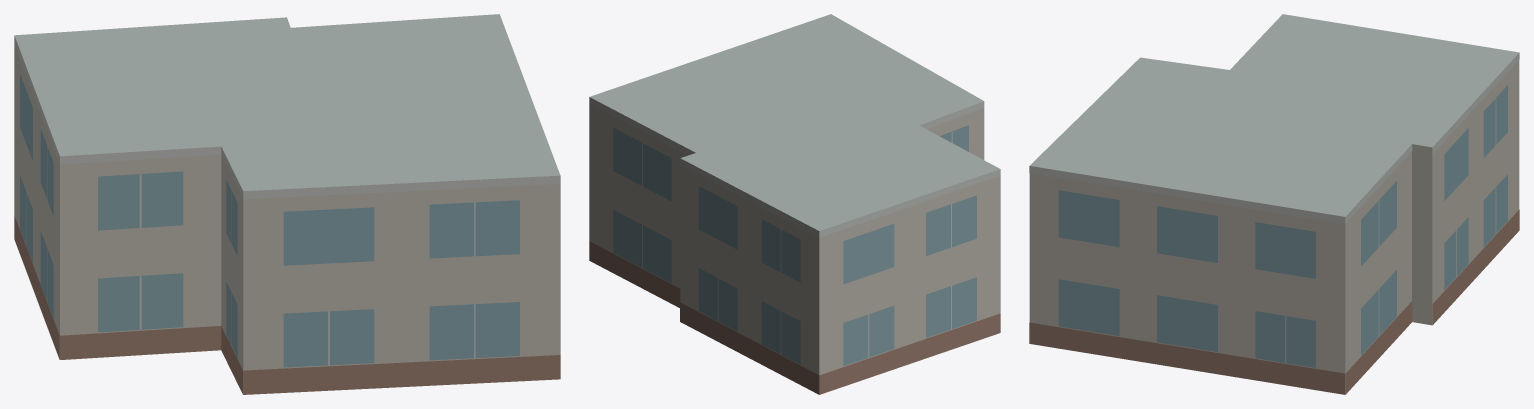
File: survey-upis-32808106.glb
3 views of the same model, side by side, from view 1: azimuth 30°, elevation 25°; view 2: azimuth 150°, elevation 25°; view 3: azimuth 270°, elevation 25° (orthographic). The views are drawn at different scales.
Visible parts, largest first — view 1: survey-upis-32808106.tmp; view 2: survey-upis-32808106.tmp; view 3: survey-upis-32808106.tmp.
Part boxes in pixels (box(x1,y1,x2,y2)): survey-upis-32808106.tmp: box(14, 14, 560, 394); survey-upis-32808106.tmp: box(589, 14, 1000, 394); survey-upis-32808106.tmp: box(1029, 14, 1519, 394).
Size of the model in its own units: 14.92 by 6.1 by 15.23.
